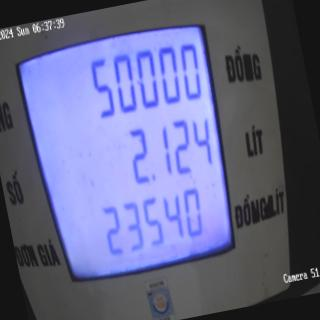screen: (5, 0, 254, 304)
